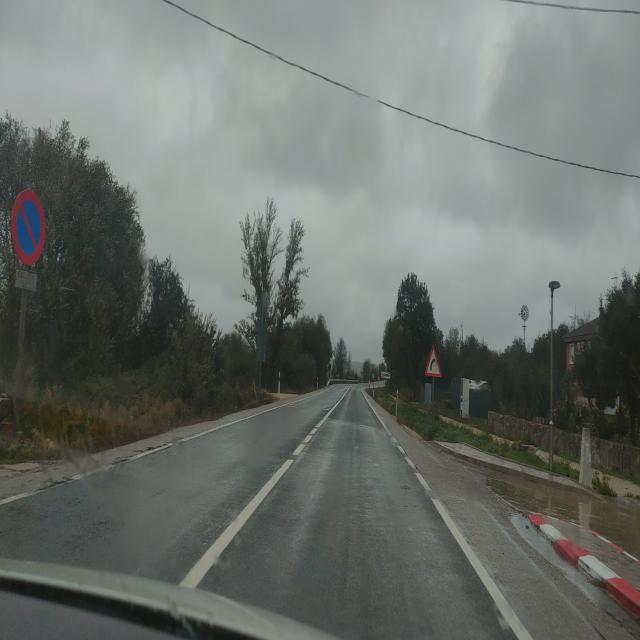Poth-hole: (394, 476, 412, 512)
